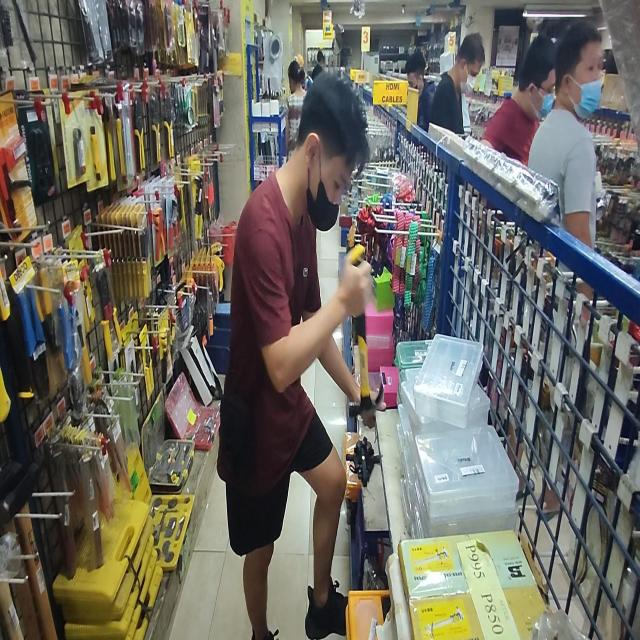hammer: (349, 245, 384, 421)
